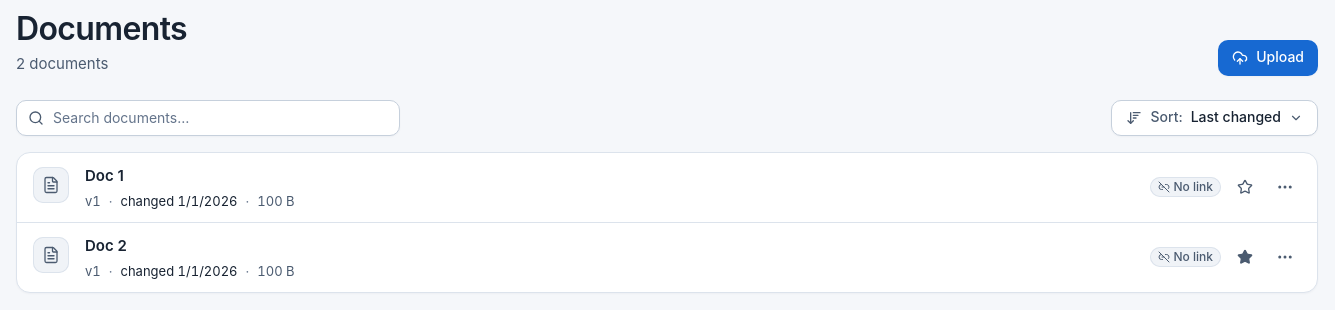
Test case: Home › shows a search error separately from an empty result and can retry
Check: the number of links "Doc 1" is 2, box left=85, top=166, right=124, bottom=185; left=85, top=236, right=127, bottom=255
Type "zz" into the search field at {"x": 208, "y": 118}, box left=16, top=100, right=400, bottom=136
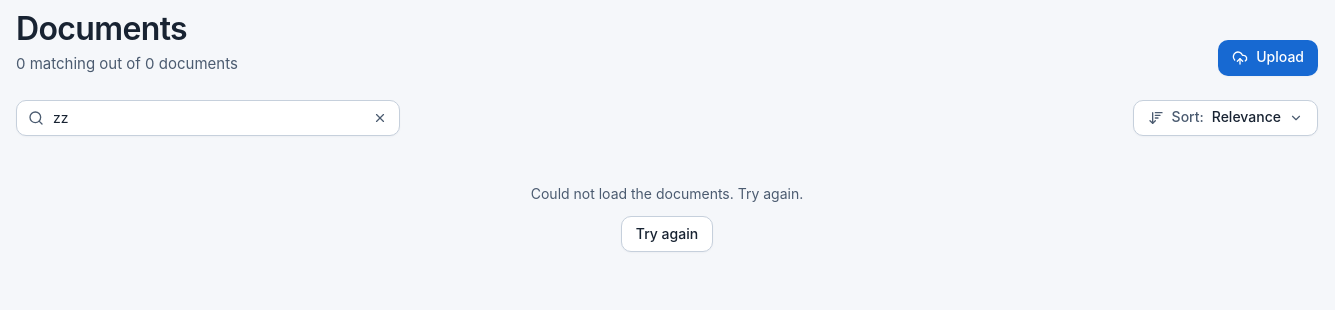
Check: the message shows "Could not load the documents", box left=531, top=185, right=803, bottom=202
Click the button "Try again" at {"x": 667, "y": 234}, box left=621, top=216, right=713, bottom=252
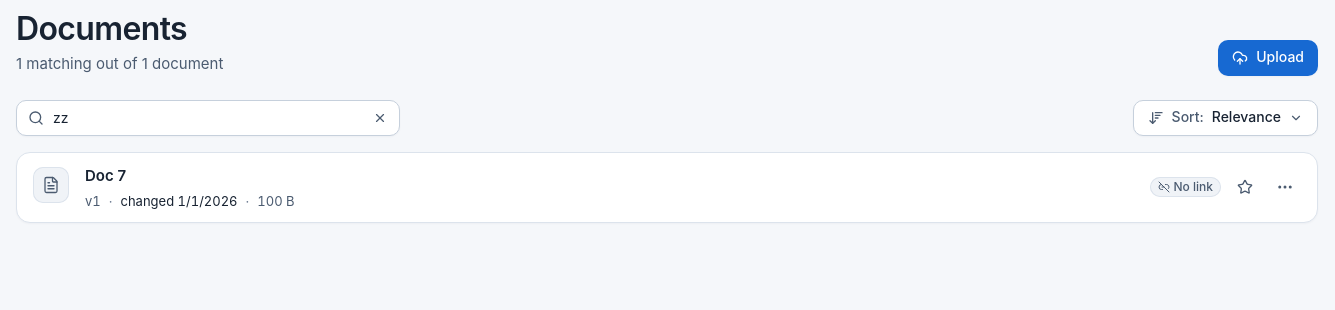
Check: the link "Doc 7" is shown, box left=85, top=166, right=126, bottom=185
